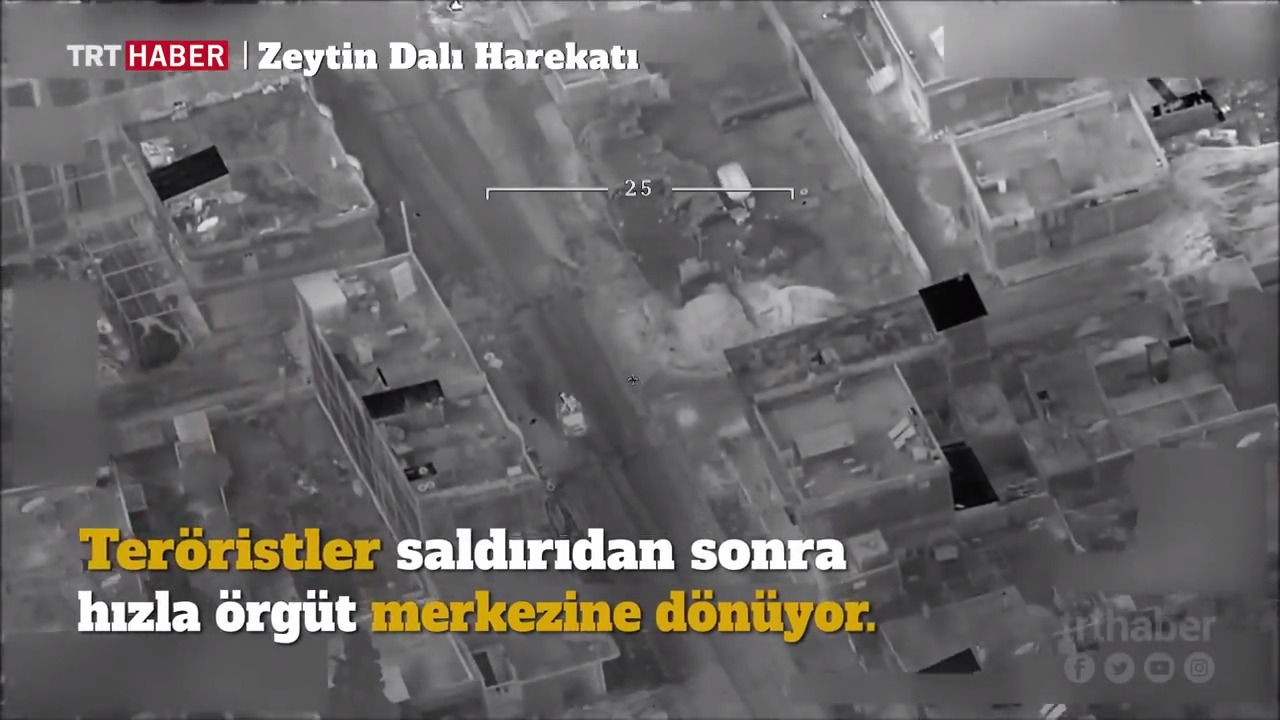arac: (554, 389, 594, 444)
